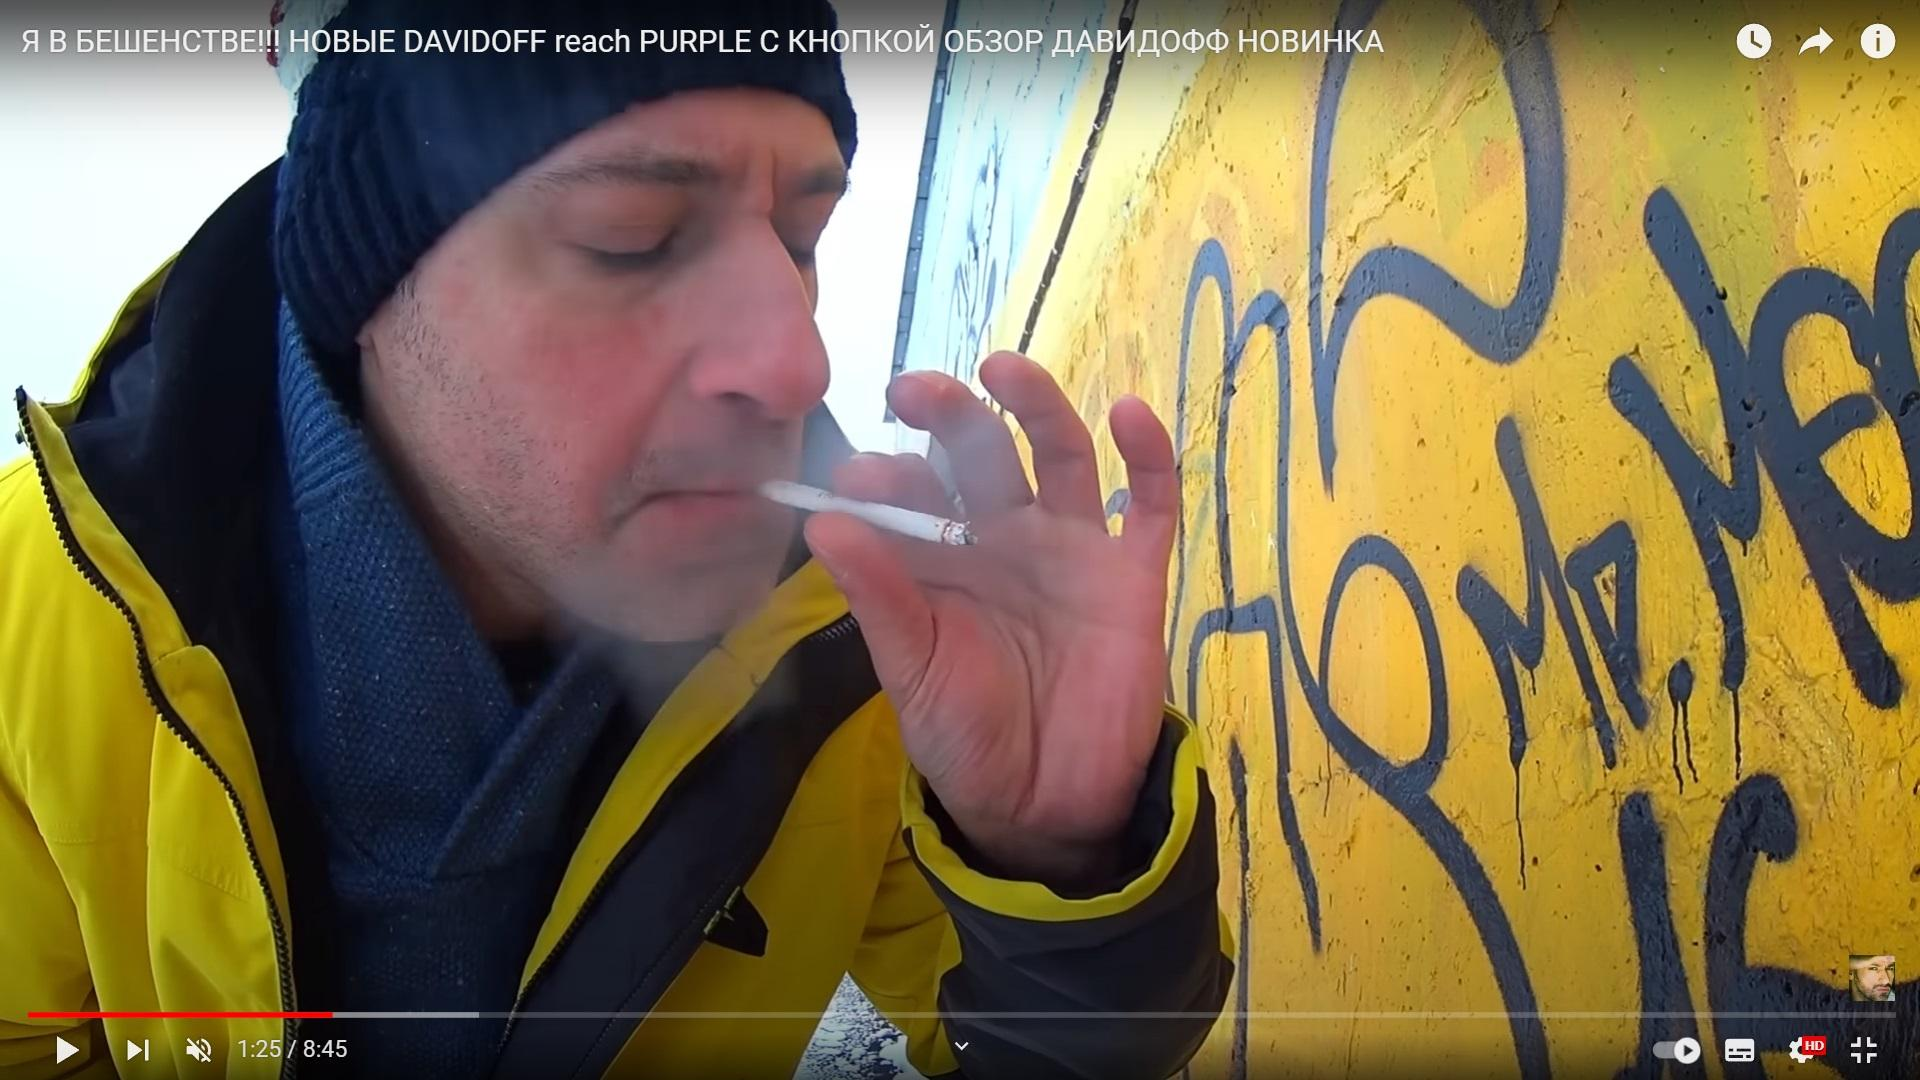cigarette: (754, 479, 980, 545)
